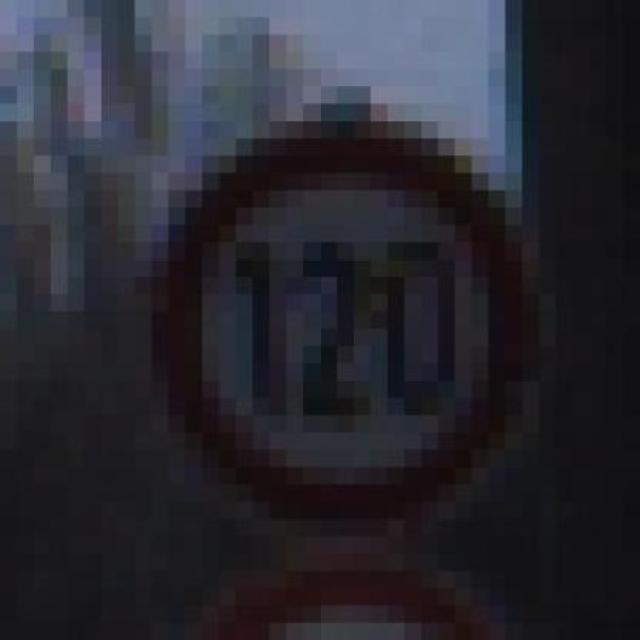forb_speed_over_120: (169, 123, 523, 532)
